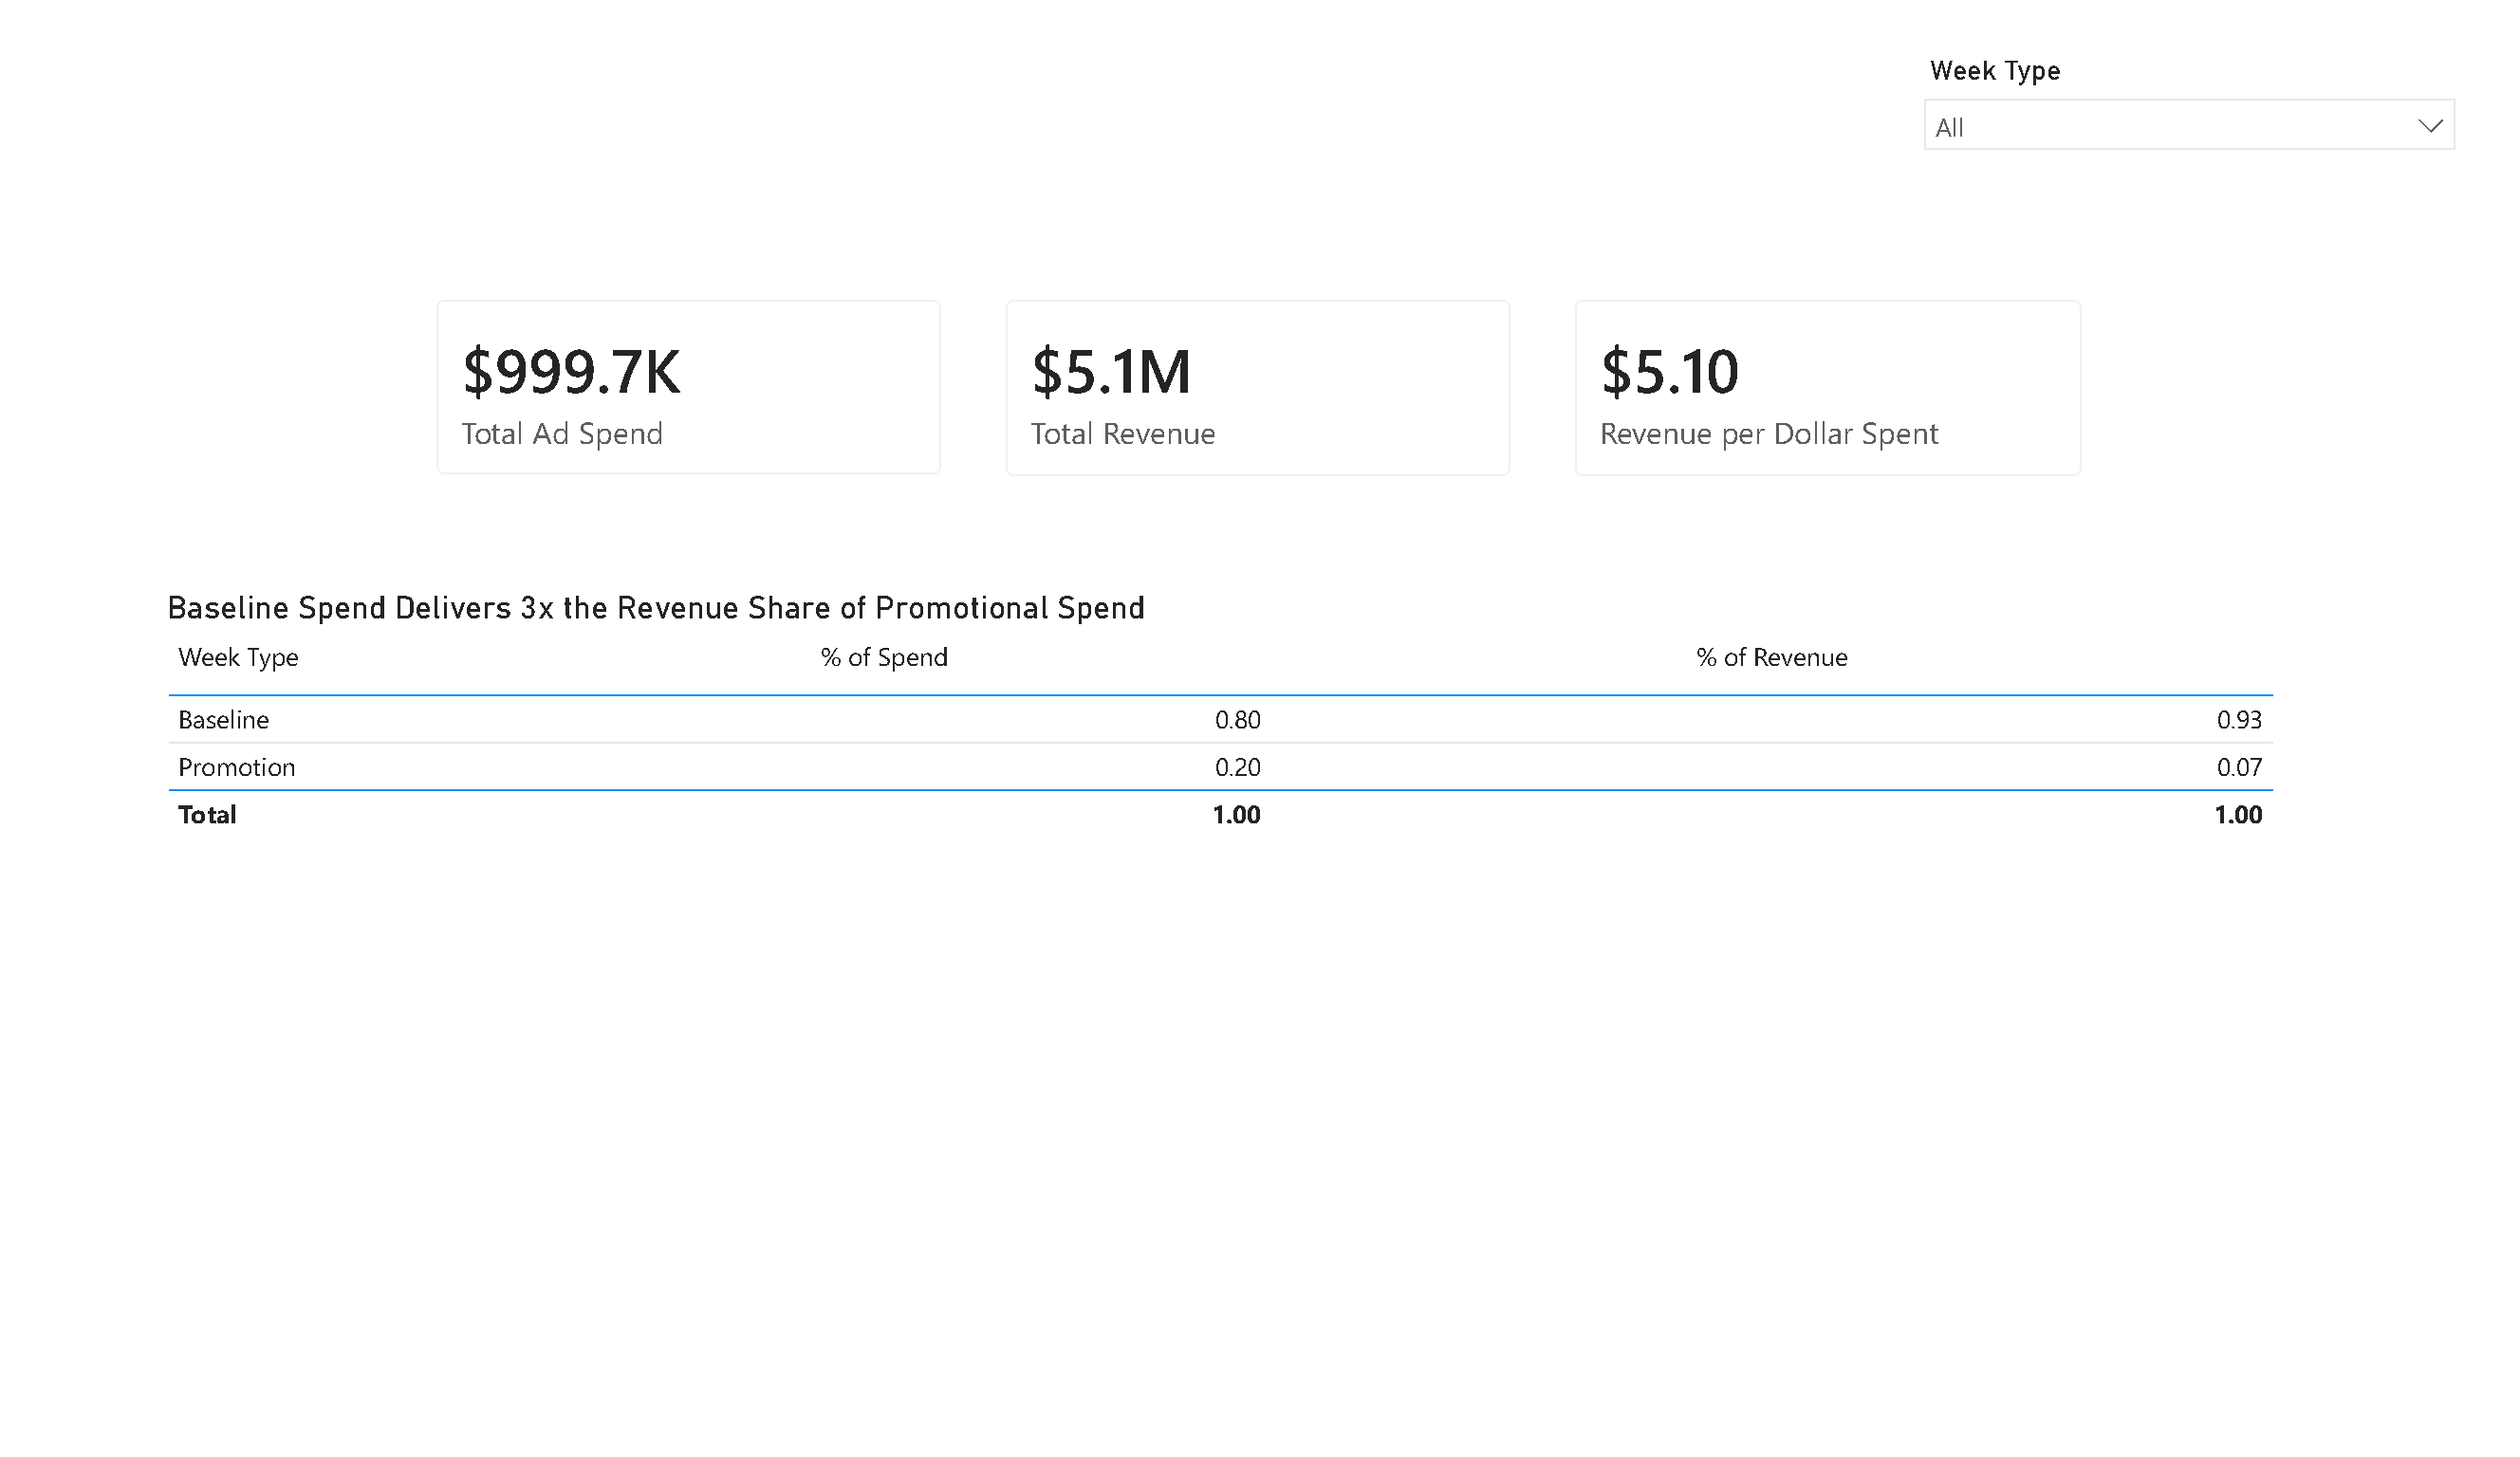

The page's visual inventory and layout, read from the dashboard file:
{"tool":"powerbi","page":{"name":"Executive Summary","canvas":[1280,720],"ordinal":0},"visuals":[{"type":"tableEx","title":"Baseline Spend Delivers 3x the Revenue Share of Promotional Spend","fields":{"Values":["MMM.Week Type","MMM.% of Spend","MMM.% of Revenue"]},"box":[58.6,286.3,1120.8,147.4],"z":0},{"type":"slicer","fields":{"Values":["MMM.Week Type"]},"box":[980.1,0,299.9,75.4],"z":1000},{"type":"group","id":"g1","title":"Group 1","box":[189.3,117.2,901.4,127.3],"z":2000},{"type":"cardVisual","fields":{"Data":["MMM.Total Ad Spend"]},"box":[189.3,117.2,299.9,125.7],"z":3000,"group":"g1"},{"type":"cardVisual","fields":{"Data":["MMM.Total Revenue"]},"box":[489.2,117.2,299.9,127.3],"z":4000,"group":"g1"},{"type":"cardVisual","fields":{"Data":["MMM.Revenue per Dollar Spent"]},"box":[789.1,117.2,301.6,127.3],"z":5000,"group":"g1"}]}

Visuals, with their boxes in screenshot pixels (x1, y1, x2, y2), scaled from the page's 1280x720 canvas onto the 2520x1457 screenshot:
"Baseline Spend Delivers 3x the Revenue Share of Promotional Spend" tableEx: [116,580,2322,877]
slicer - MMM.Week Type: [1930,0,2519,153]
"Group 1" group: [373,237,2147,495]
cardVisual - MMM.Total Ad Spend: [373,237,963,491]
cardVisual - MMM.Total Revenue: [963,237,1553,495]
cardVisual - MMM.Revenue per Dollar Spent: [1553,237,2147,495]
